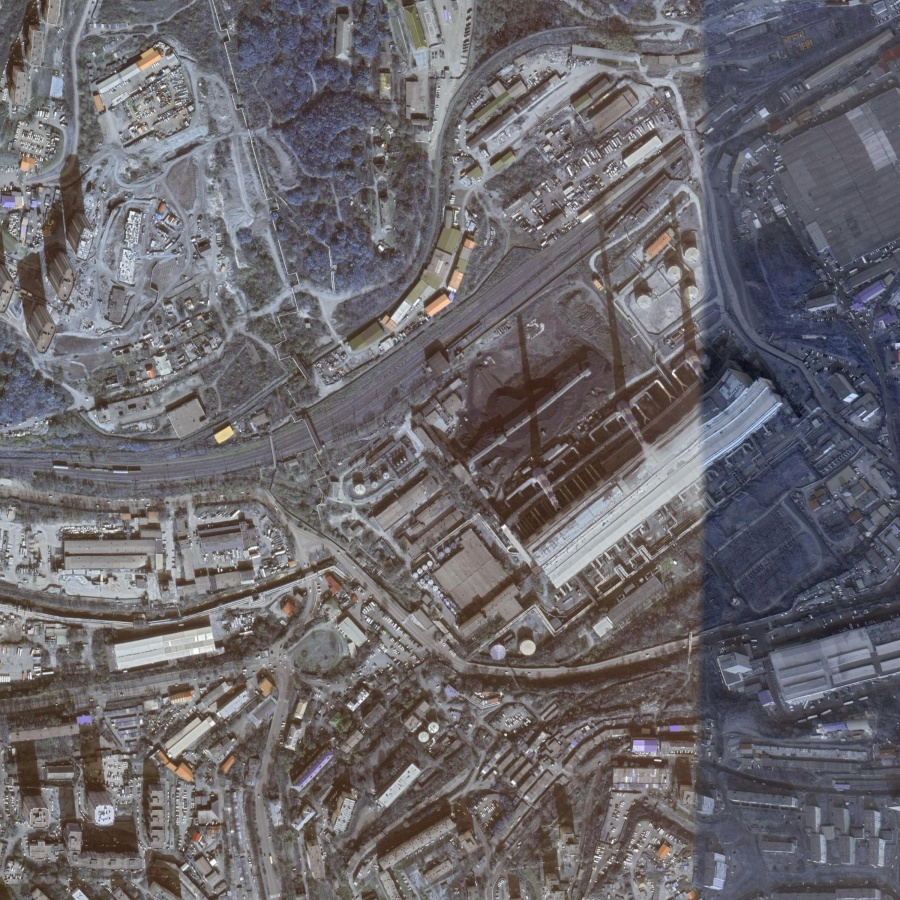PowerPlant: (451, 223, 778, 591)
